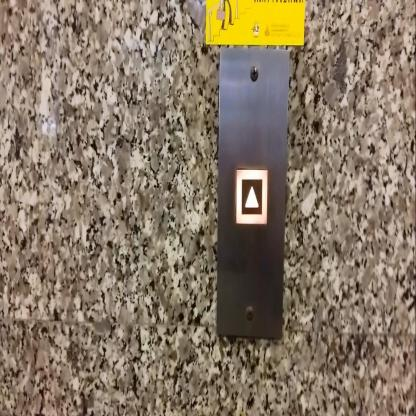up: (235, 167, 268, 224)
